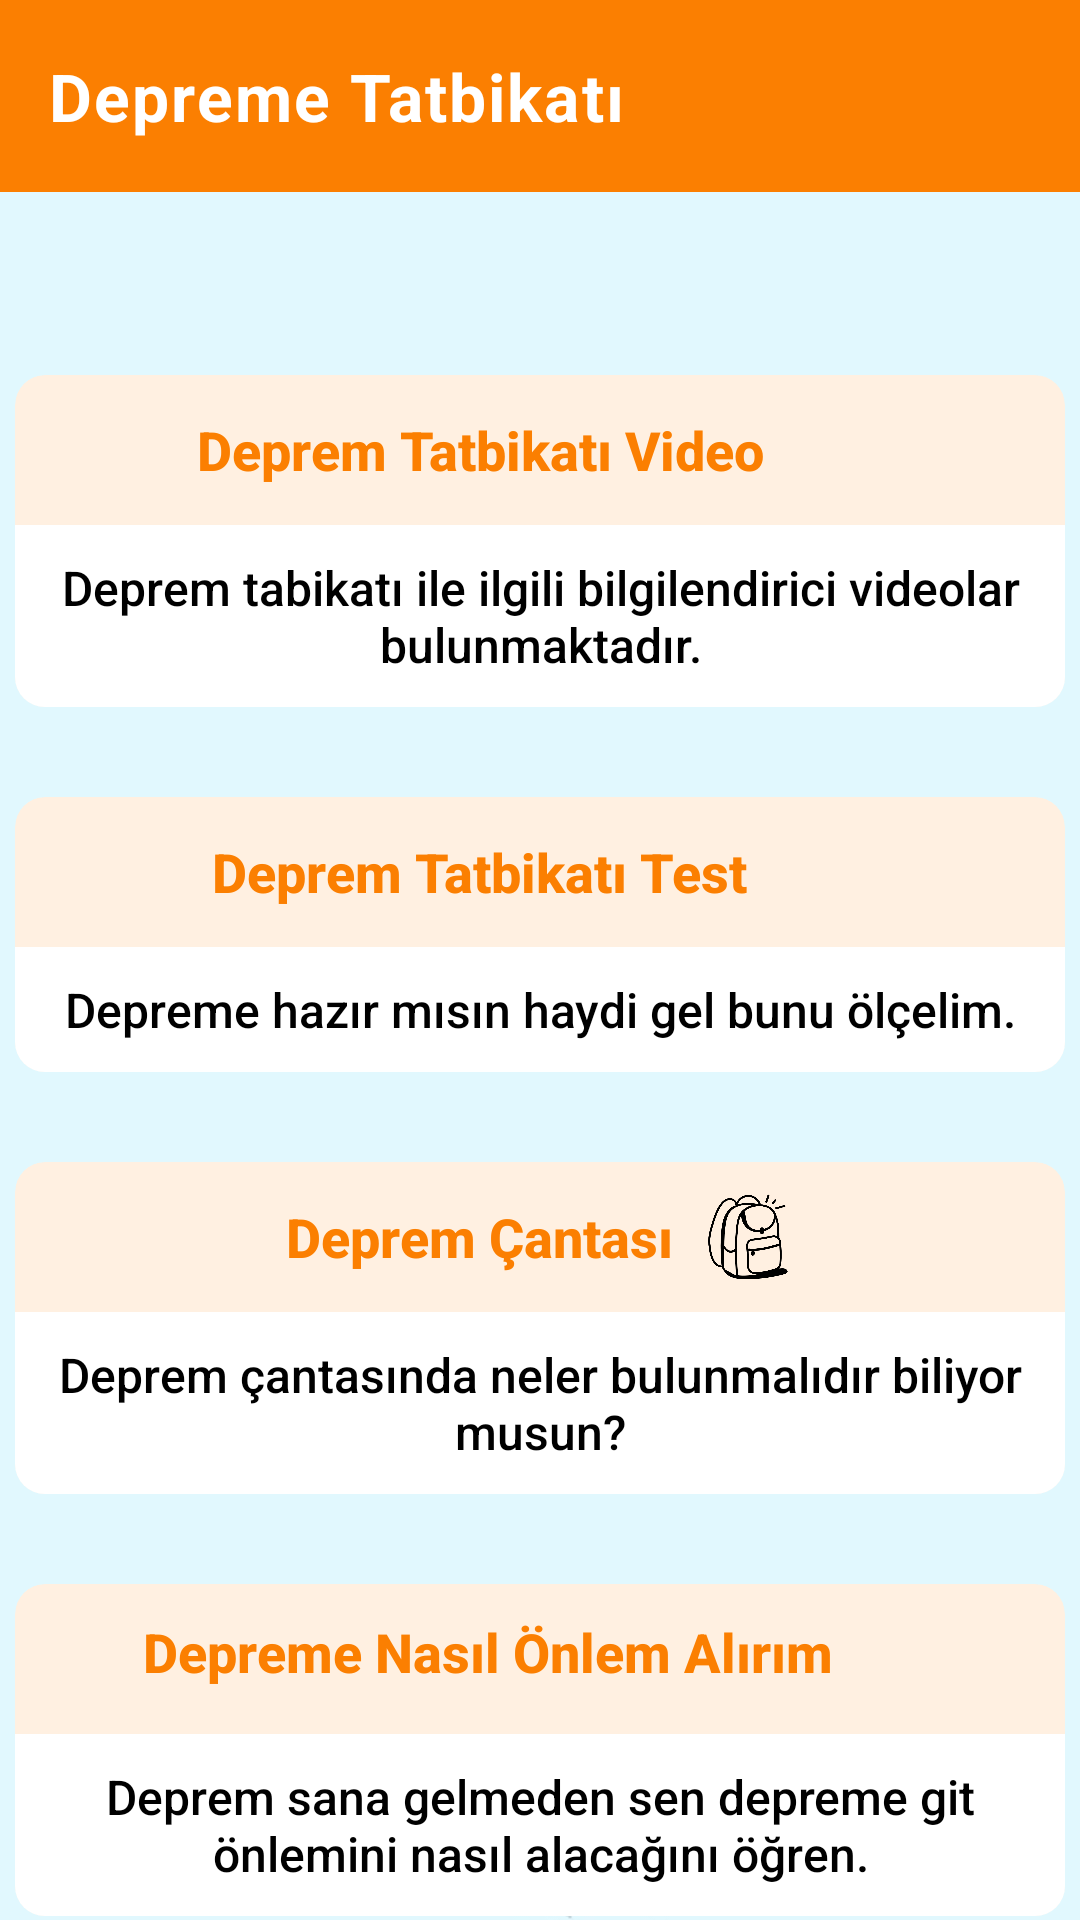

Point at icon controls on the screen. Image size 1080*1920, points as [x,y].
backpack: [748,1237]
